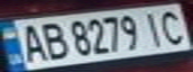2: (84, 15, 109, 55)
7: (103, 14, 124, 53)
8: (66, 17, 90, 57)
9: (118, 11, 145, 51)
A: (12, 21, 51, 64)
B: (33, 19, 69, 61)
C: (154, 7, 193, 46)
I: (139, 8, 169, 47)
